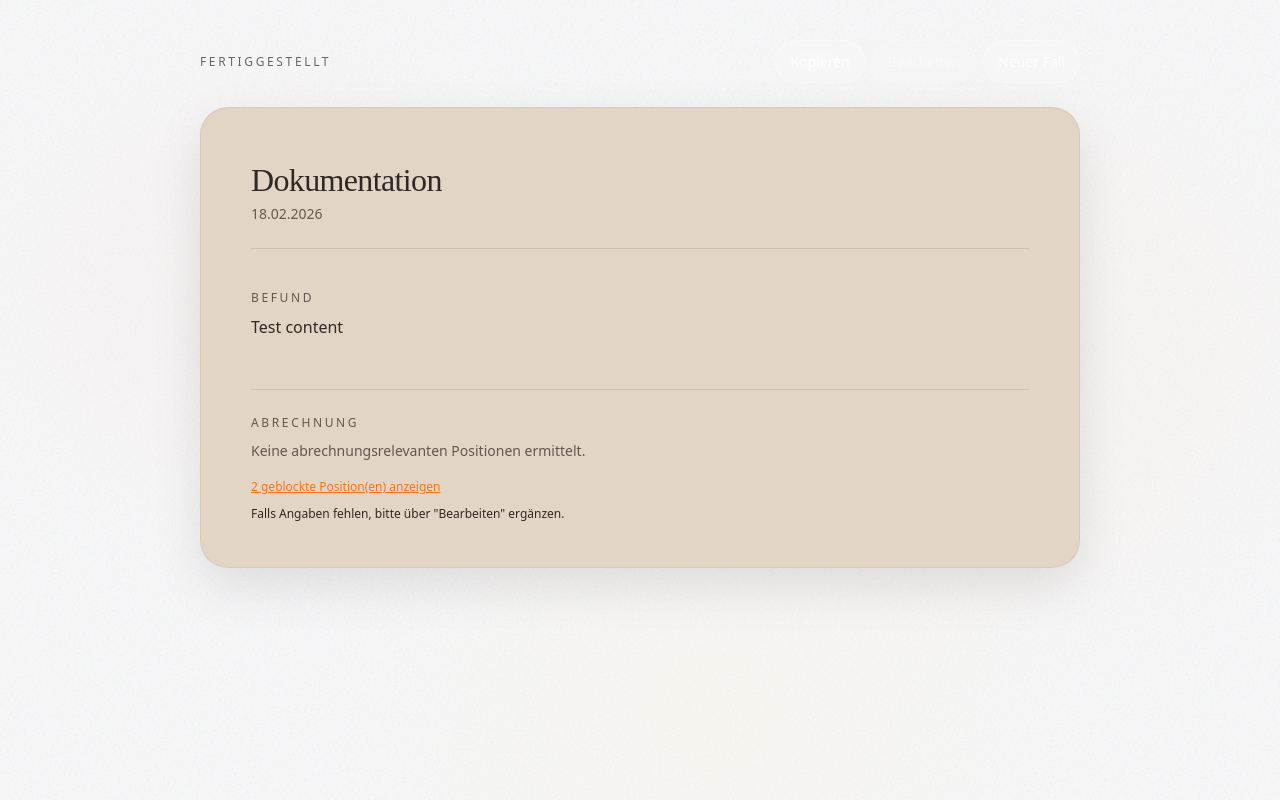
OutputFlow › Billing diagnostics › should show blocked codes toggle when billingBlocked has items
The image size is (1280, 800).
Click to expand
Click the button with test id "blocked-toggle". click: (346,487)
box: [251,478,440,496]
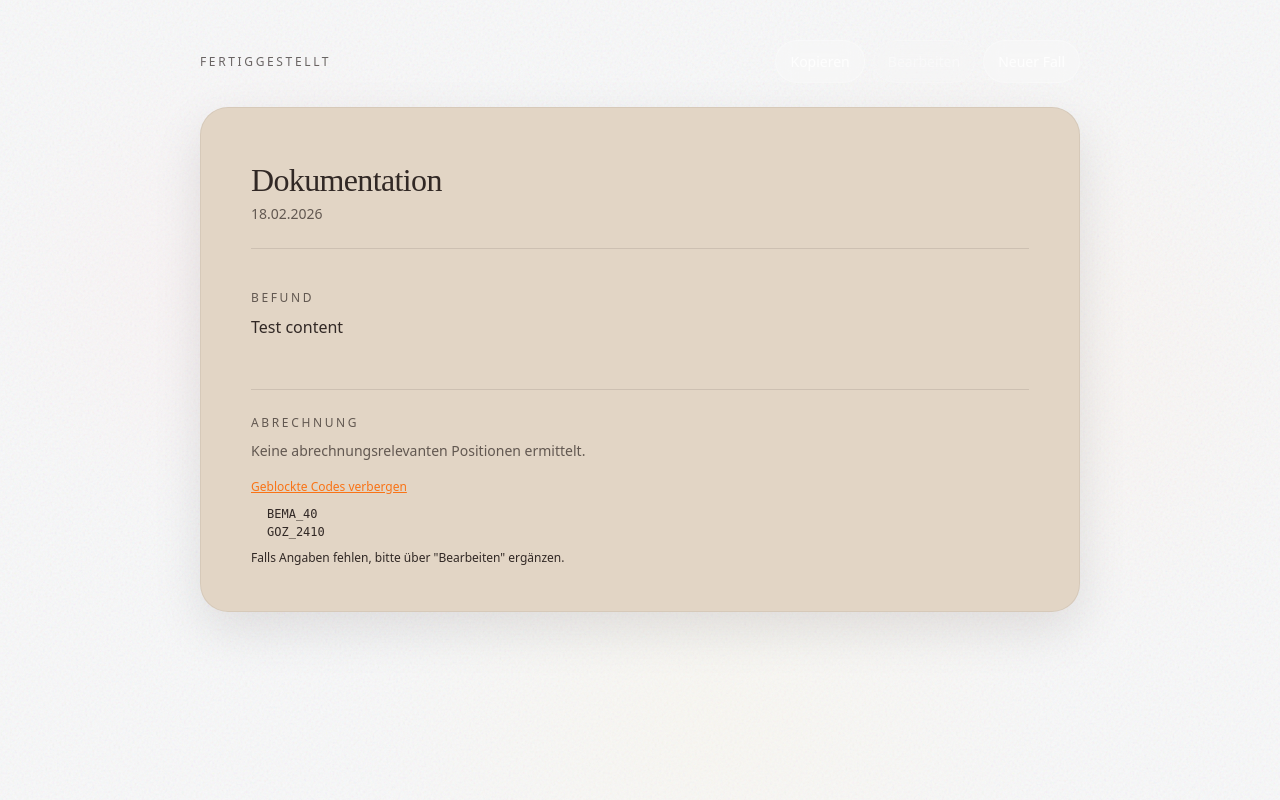
Check: the list with test id "blocked-list" is shown, box [267,507,325,539]
Check: the list item "BEMA_40" is shown, box [267,507,318,521]
Check: the list item "GOZ_2410" is shown, box [267,525,325,539]
